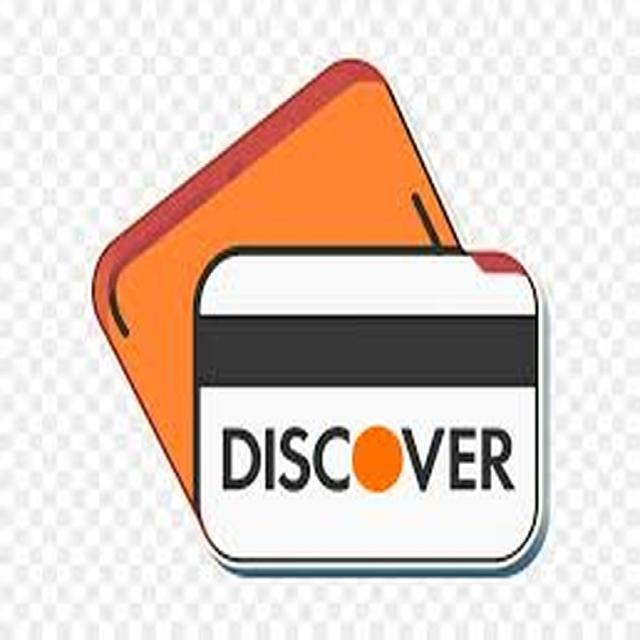card: (179, 226, 583, 600)
